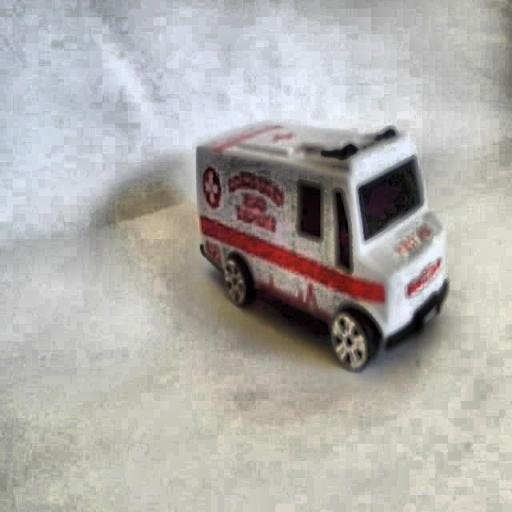ambulance: (195, 121, 448, 372)
